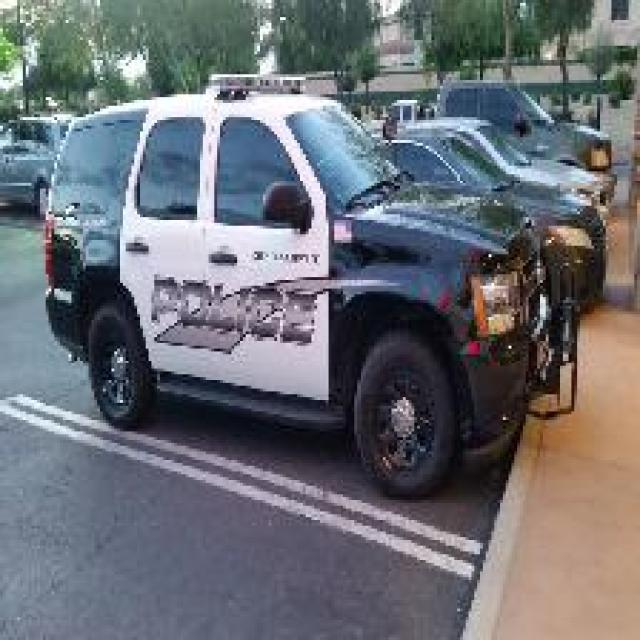Police-car: (40, 69, 589, 497)
